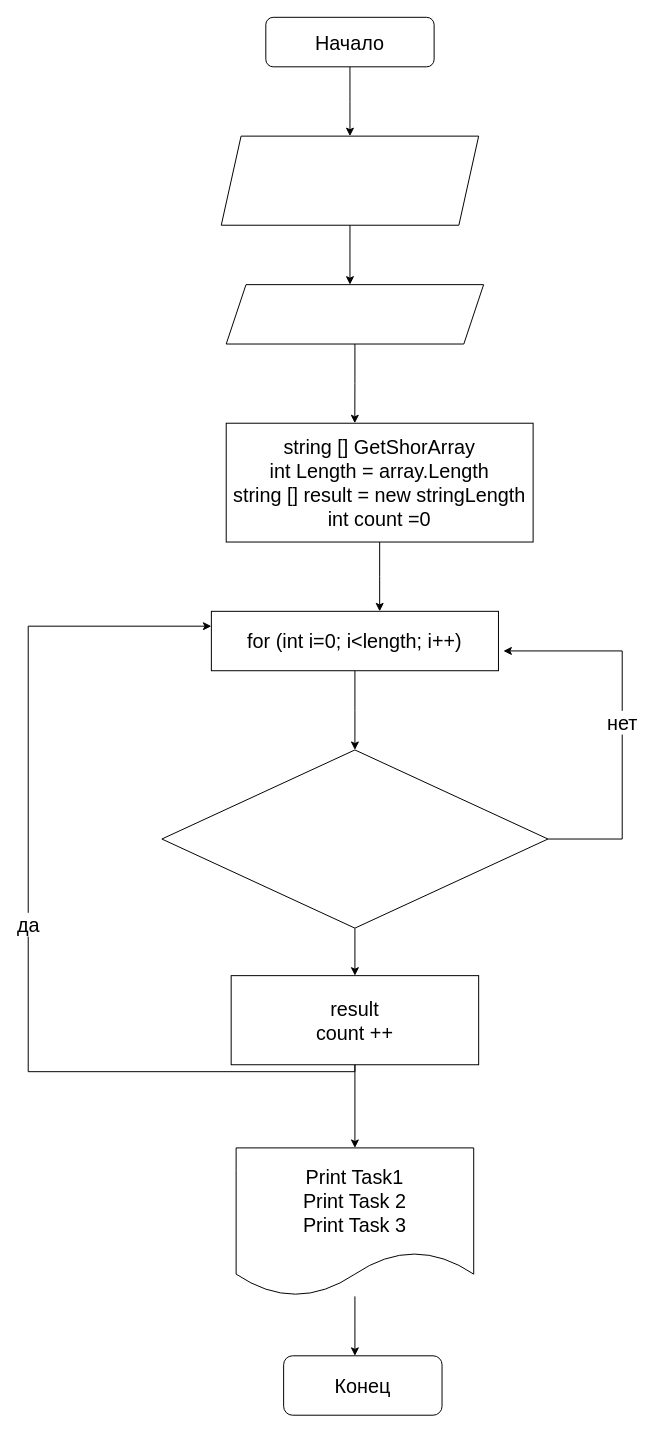
This 654x1433 diagram has some shape labels left out. The shapes that lost their labels are listed below. From the top down, each one's box as (x1, y1, x2, y2) in pixels, then its label:
(220, 135, 479, 225): string [] arr1 string [] arr2 string [] arr3
(225, 284, 484, 344): int MaxLength = 3
(161, 749, 548, 928): if (array [i].Length <= MaxLength
